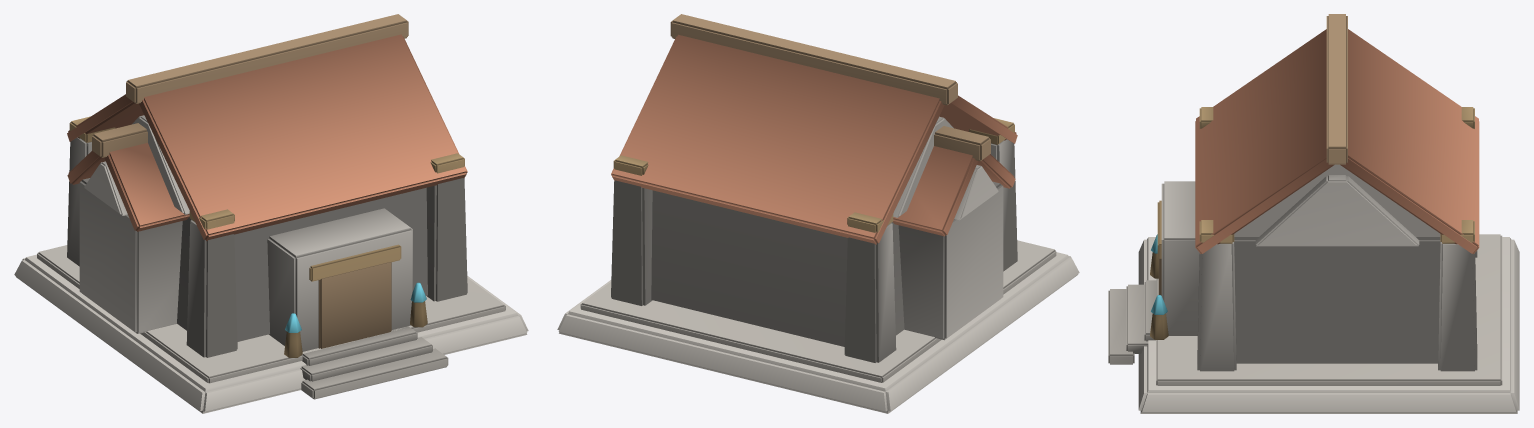
Rendered from core_archive_townhall_lv1_lod0.glb.
3 views of the same model, side by side, from view 1: azimuth 30°, elevation 25°; view 2: azimuth 150°, elevation 25°; view 3: azimuth 270°, elevation 25° (orthographic).
Visible parts, largest first — view 1: core_archive_townhall_lv1; view 2: core_archive_townhall_lv1; view 3: core_archive_townhall_lv1.
Boxes of the visible parts, box(x1,y1,x2,y2) form: core_archive_townhall_lv1: box(14, 14, 528, 413); core_archive_townhall_lv1: box(557, 14, 1079, 413); core_archive_townhall_lv1: box(1108, 14, 1519, 413).
Bounding box in the file's own units: 4.71 × 3.4 × 4.99.
